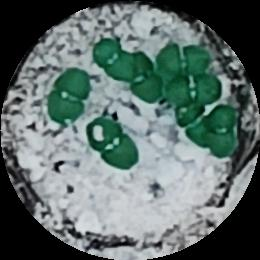Basil: (90, 121, 141, 171), (50, 67, 88, 126), (158, 41, 210, 76), (209, 105, 240, 161), (126, 53, 160, 104), (163, 77, 218, 108), (177, 104, 214, 150), (95, 39, 130, 80)
